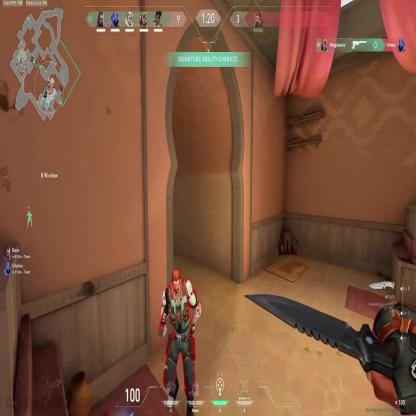enemy: (158, 269, 201, 412)
enemy_head: (170, 266, 182, 296)
